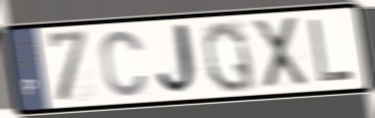7: (47, 28, 91, 106)
C: (98, 28, 150, 99)
J: (155, 21, 204, 99)
L: (307, 17, 356, 85)
Q: (201, 19, 259, 95)
X: (249, 15, 311, 92)
